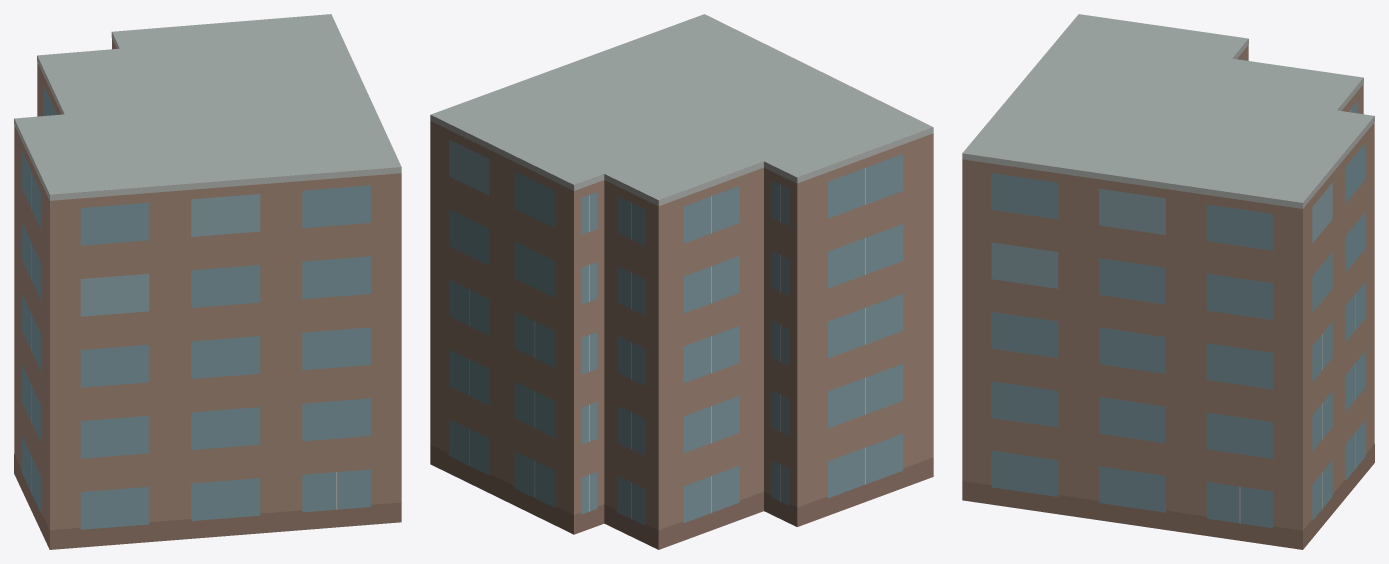
The model's file is survey-upis-33021037.glb.
The picture shows the model from 3 angles, left to right: view 1: azimuth 30°, elevation 25°; view 2: azimuth 150°, elevation 25°; view 3: azimuth 270°, elevation 25°; orthographic projection. The views are drawn at different scales.
Visible parts, largest first — view 1: survey-upis-33021037.tmp; view 2: survey-upis-33021037.tmp; view 3: survey-upis-33021037.tmp.
Boxes of the visible parts, left/top/right/bottom form: survey-upis-33021037.tmp: left=14, top=14, right=401, bottom=549; survey-upis-33021037.tmp: left=430, top=14, right=933, bottom=549; survey-upis-33021037.tmp: left=962, top=14, right=1374, bottom=549.
Bounding box in the file's own units: 16.48 × 14.1 × 15.21.
